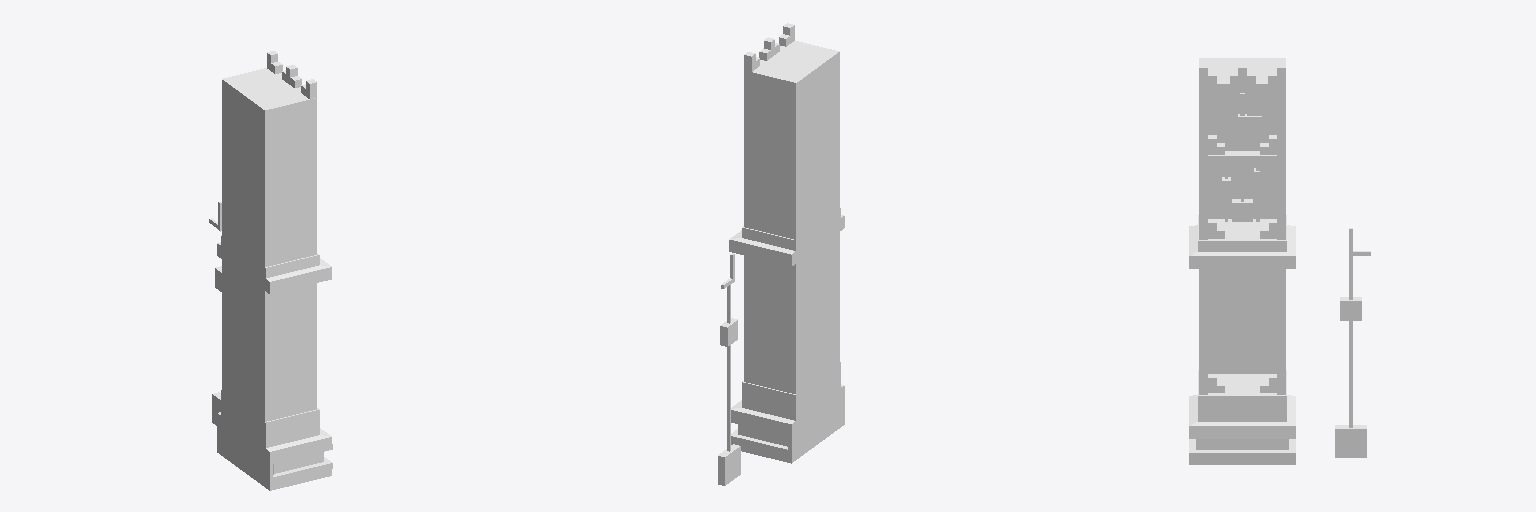
File: clock.obj
3 renders of one model, left to right at view 1: azimuth 30°, elevation 25°; view 2: azimuth 150°, elevation 25°; view 3: azimuth 270°, elevation 25°, orthographic.
Visible parts, largest first — view 1: largeClock, smallClock; view 2: largeClock, smallClock, largePendulum; view 3: largeClock, smallClock, face, largePendulum, itemhardware, smallPendulum.
Part boxes in pixels (left/top/right/bottom): largeClock: left=217, top=51, right=332, bottom=490; smallClock: left=217, top=155, right=331, bottom=293; largeClock: left=731, top=23, right=844, bottom=463; smallClock: left=729, top=124, right=844, bottom=266; largePendulum: left=718, top=285, right=740, bottom=485; largeClock: left=1189, top=58, right=1295, bottom=464; smallClock: left=1189, top=156, right=1295, bottom=268; face: left=1208, top=91, right=1276, bottom=150; largePendulum: left=1335, top=256, right=1366, bottom=457; itemhardware: left=1232, top=93, right=1261, bottom=221; smallPendulum: left=1340, top=257, right=1361, bottom=320.
Bounding box in the file's own units: 0.3344 × 2.02 × 0.8358.